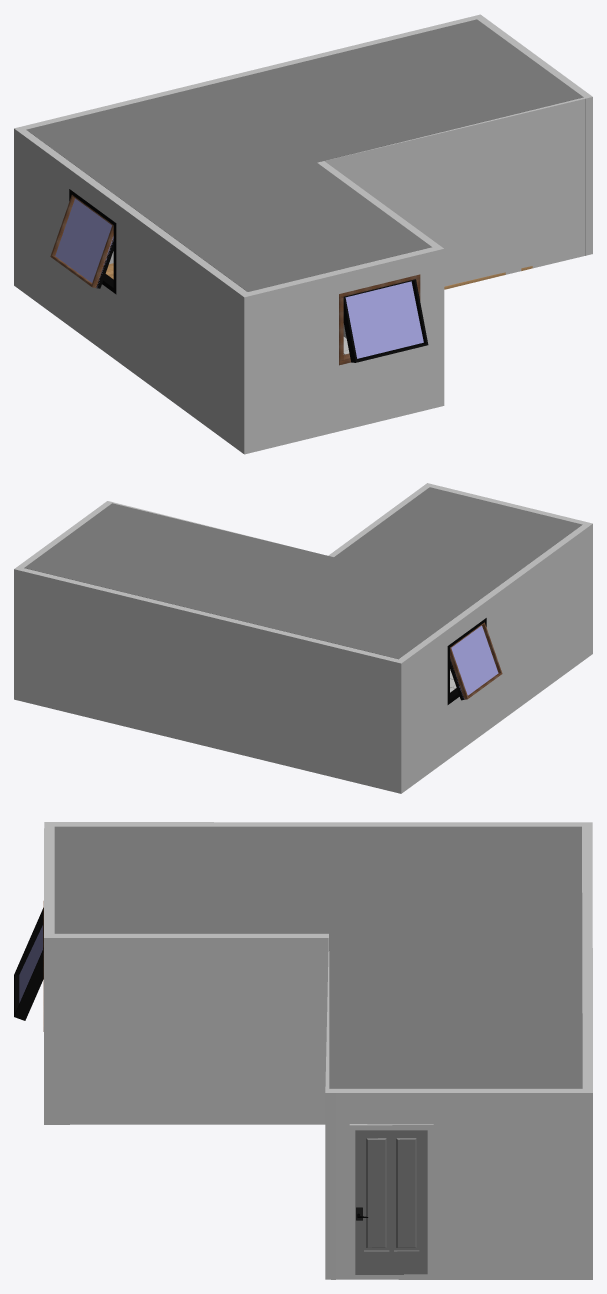
The model's file is Room.FBX.
3 views of the same model, one above another, from view 1: azimuth 30°, elevation 25°; view 2: azimuth 150°, elevation 25°; view 3: azimuth 270°, elevation 25° (orthographic). The views are drawn at different scales.
Visible parts, largest first — view 1: Wall001, Celling, Kitchen window, Living window; view 2: Wall001, Celling, Living window; view 3: Wall001, Celling, Front Door, Kitchen window.
Boxes of the visible parts, x1=… form: Wall001: x1=14, y1=14, x2=592, y2=454; Celling: x1=26, y1=19, x2=583, y2=291; Kitchen window: x1=339, y1=274, x2=428, y2=365; Living window: x1=50, y1=189, x2=116, y2=294; Wall001: x1=14, y1=483, x2=592, y2=793; Celling: x1=24, y1=487, x2=582, y2=659; Living window: x1=447, y1=618, x2=502, y2=704; Wall001: x1=44, y1=822, x2=592, y2=1279; Celling: x1=54, y1=826, x2=582, y2=1088; Front Door: x1=349, y1=1124, x2=433, y2=1276; Kitchen window: x1=14, y1=901, x2=43, y2=1031.
Bounding box in the file's own units: 315 × 96.11 × 270.
